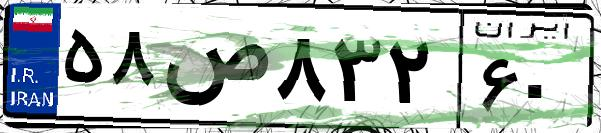0: (525, 38, 570, 115)
2: (385, 28, 445, 110)
3: (330, 28, 385, 110)
5: (57, 26, 110, 100)
6: (475, 38, 525, 113)
8: (270, 28, 330, 110), (110, 28, 158, 98)
ص: (158, 20, 270, 120)
